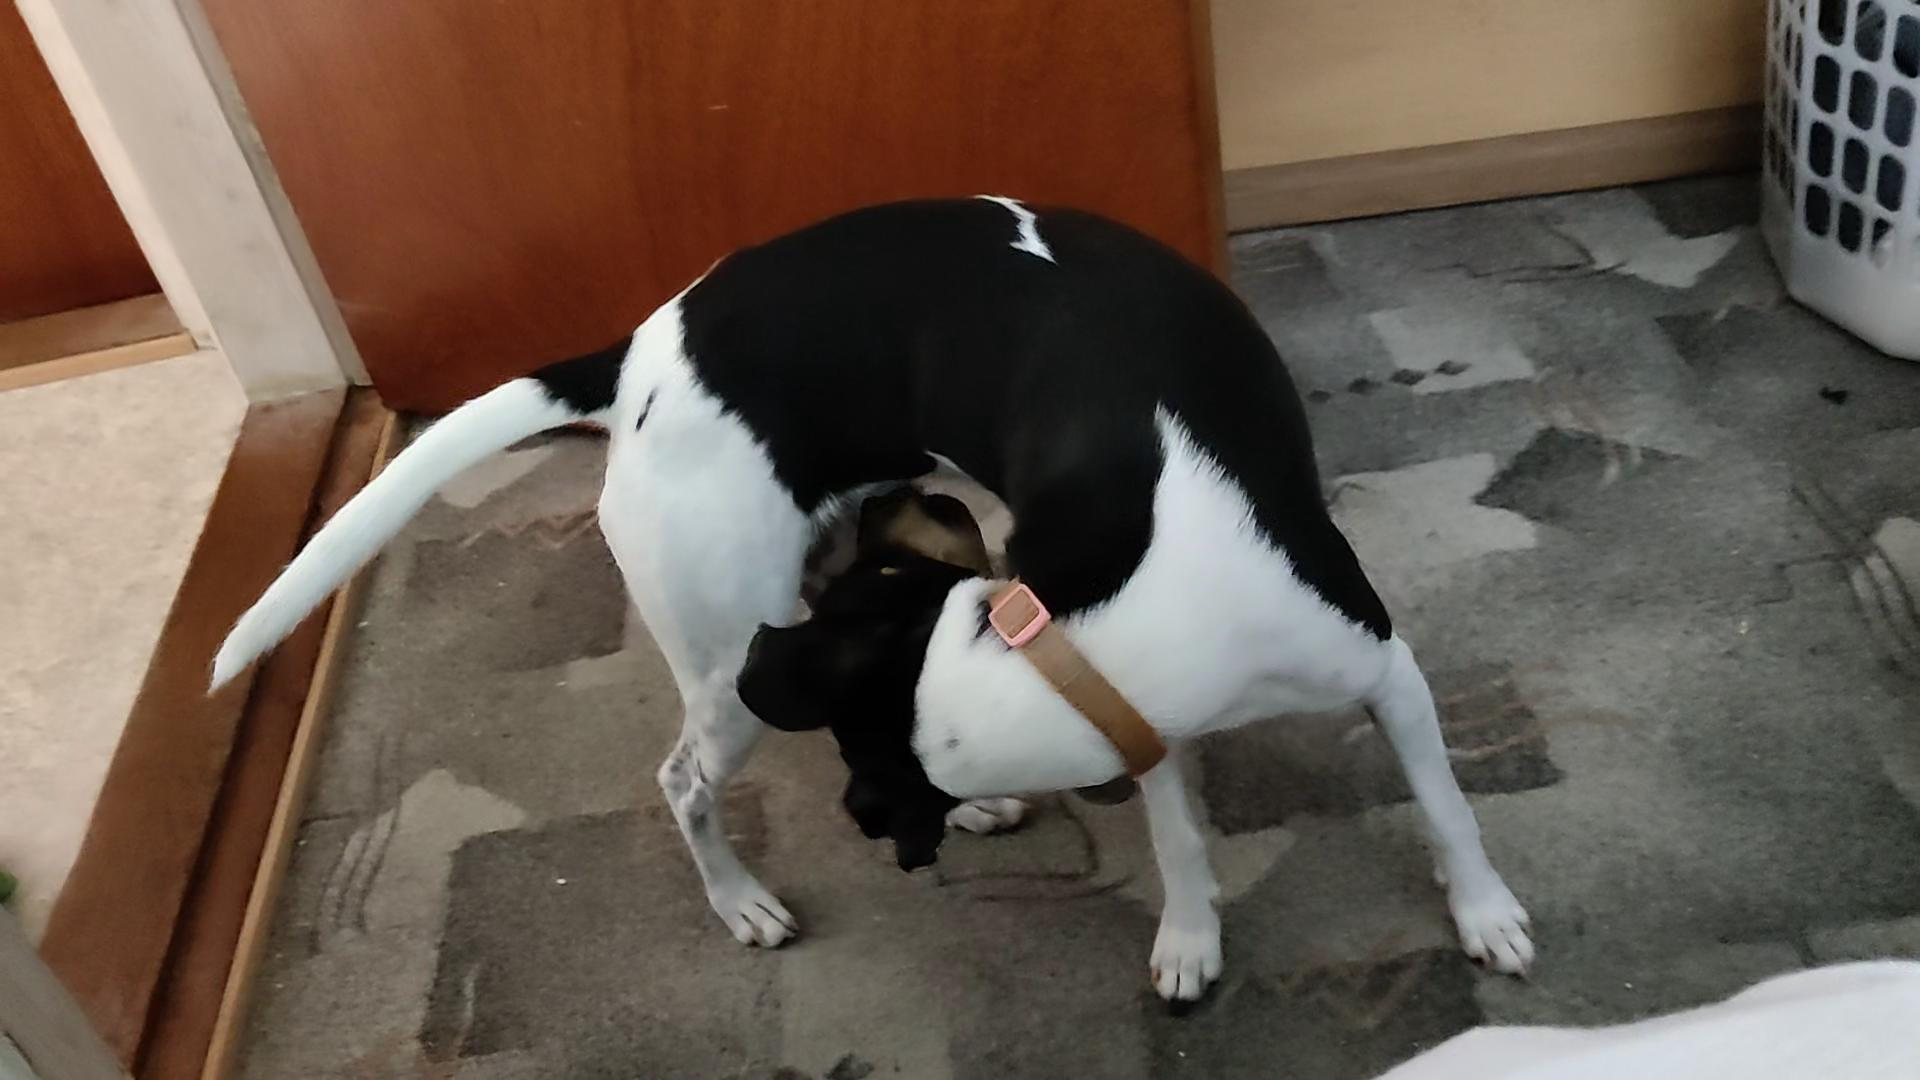Dog: (185, 187, 1569, 1014)
